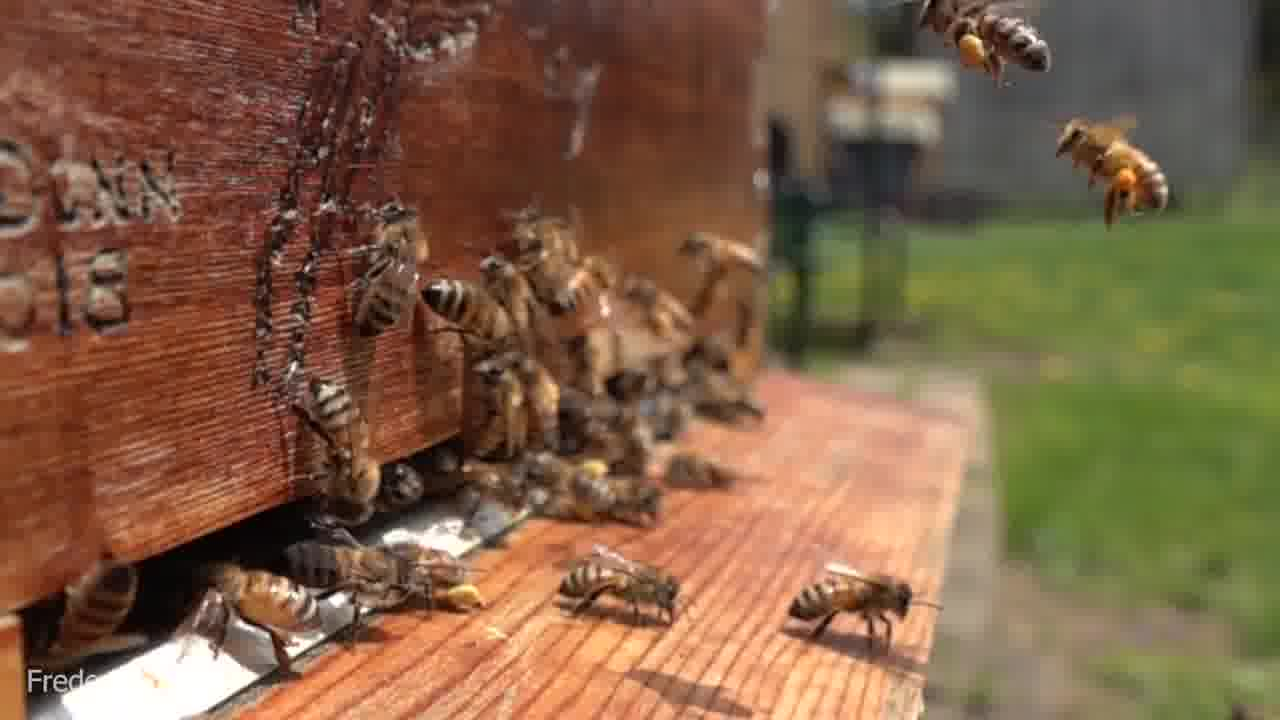pollen: (895, 1, 1058, 96), (1063, 114, 1174, 225)
